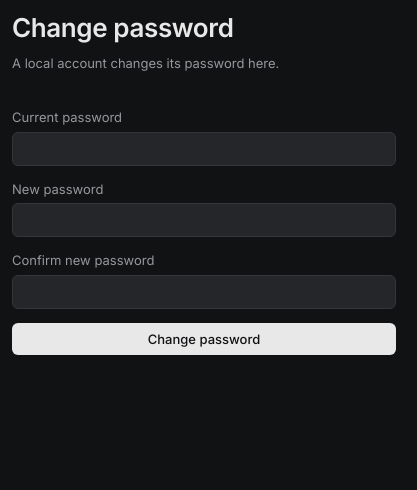
Scenario: PasswordChange › shows the directory refusal as sent
This screenshot has width=417, height=490.
Type "old-password-1" into the password field labelled "Current password".
click(204, 148); type("old-password-1")  # box top-left (12, 132), bottom-right (396, 166)
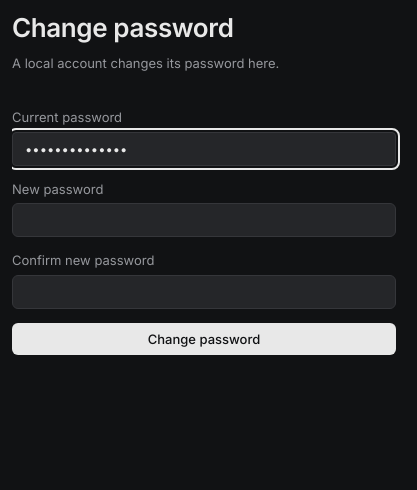
Type "new-password-1" into the password field labelled "New password".
click(204, 220); type("new-password-1")  # box top-left (12, 203), bottom-right (396, 237)
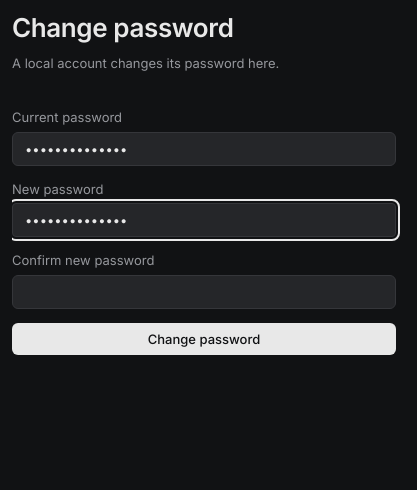
Type "new-password-1" into the password field labelled "Confirm new password".
click(204, 292); type("new-password-1")  # box top-left (12, 274), bottom-right (396, 308)
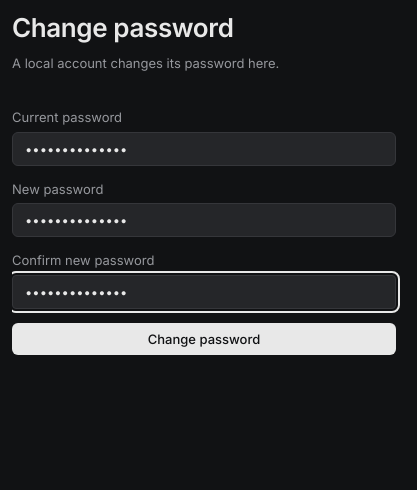
Click the button "Change password".
click(204, 338)  # box top-left (12, 322), bottom-right (396, 354)
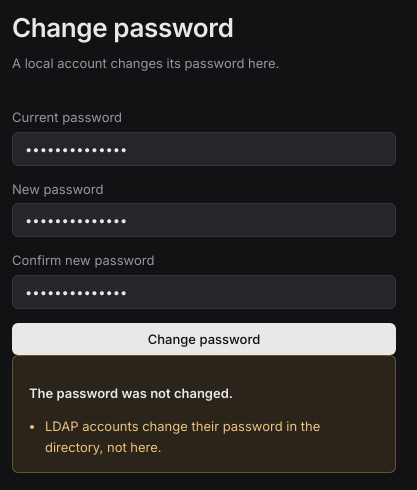
Result: the message shows "LDAP accounts change their password in the directory, not here." at top-left (45, 418), bottom-right (320, 455)
